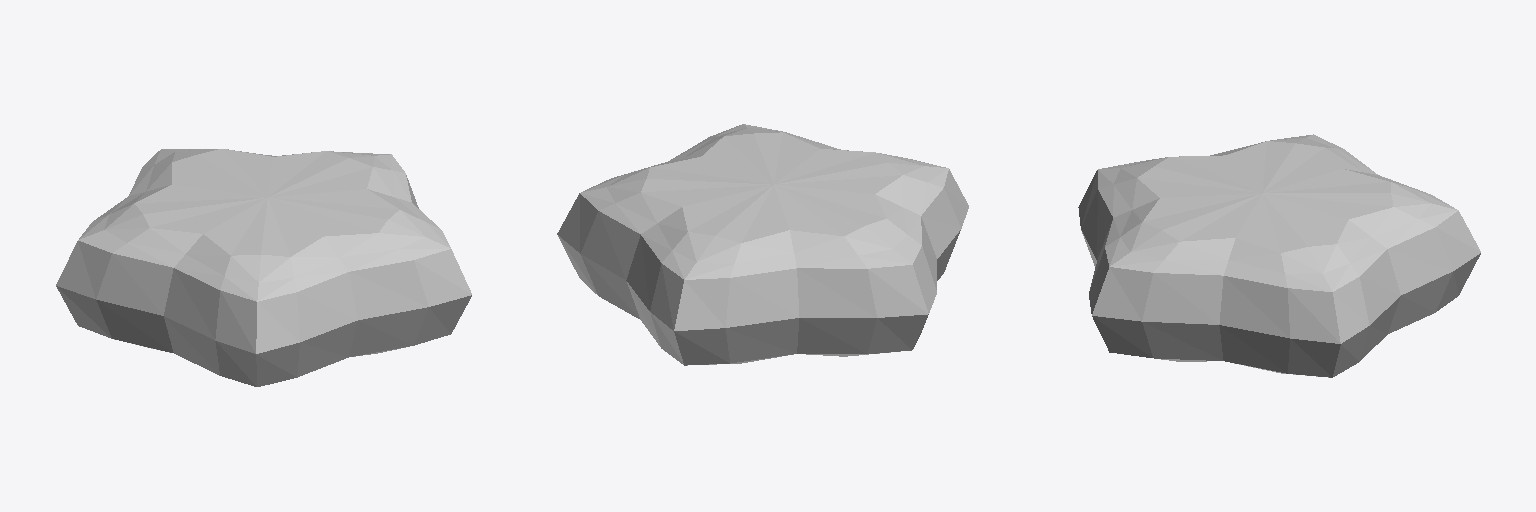
File: Starcake.obj
3 renders of one model, left to right at view 1: azimuth 30°, elevation 25°; view 2: azimuth 150°, elevation 25°; view 3: azimuth 270°, elevation 25°, orthographic.
Parts seen in each view (by area): view 1: Star.001; view 2: Star.001; view 3: Star.001.
Part boxes in pixels (x1,y1,x2,y2): Star.001: (56, 149, 471, 386); Star.001: (557, 124, 968, 365); Star.001: (1078, 134, 1480, 377).
Bounding box in the file's own units: 9.99 × 3.4 × 9.66.